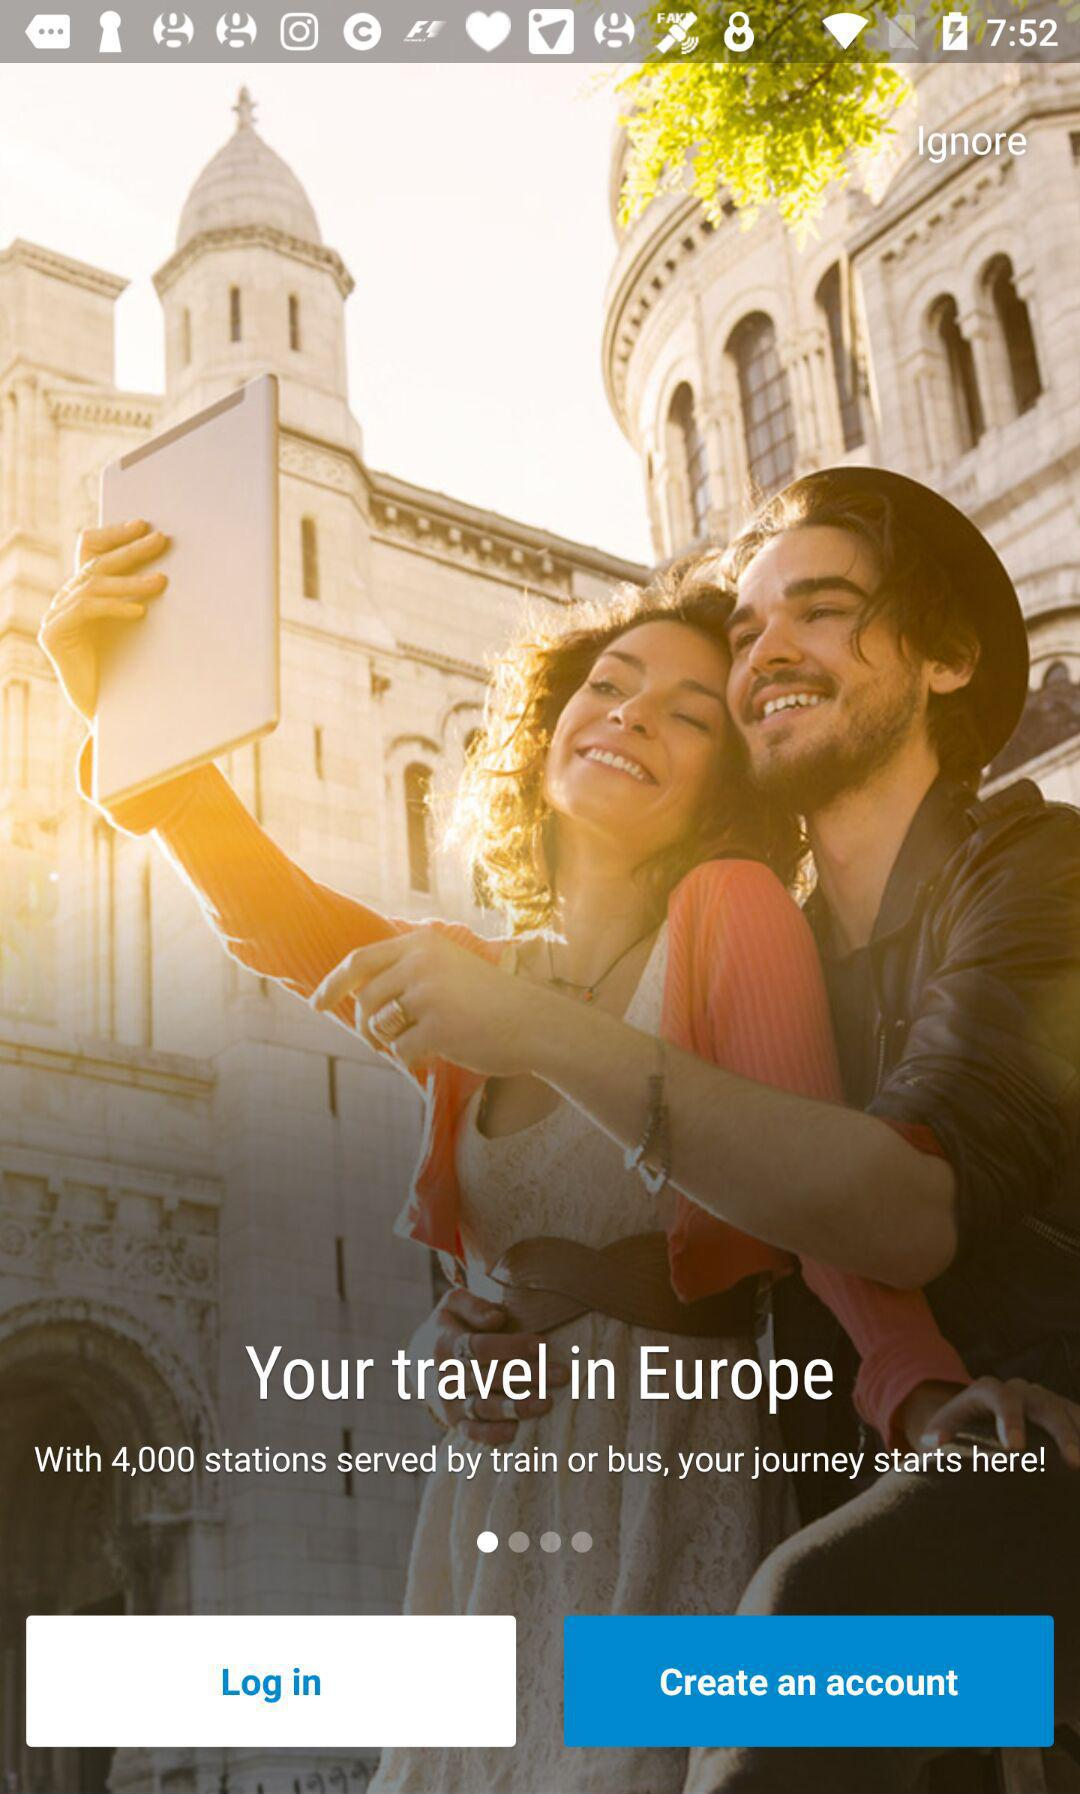BackgroundImage: (1, 64, 1080, 1794)
PageIndicator: (475, 1529, 594, 1554)
Text: (243, 1344, 835, 1417), (33, 1443, 1047, 1483), (917, 124, 1027, 167)
TextButton: (26, 1615, 518, 1748), (562, 1615, 1054, 1748)
UpperTaskBar: (1, 1, 1080, 64)
